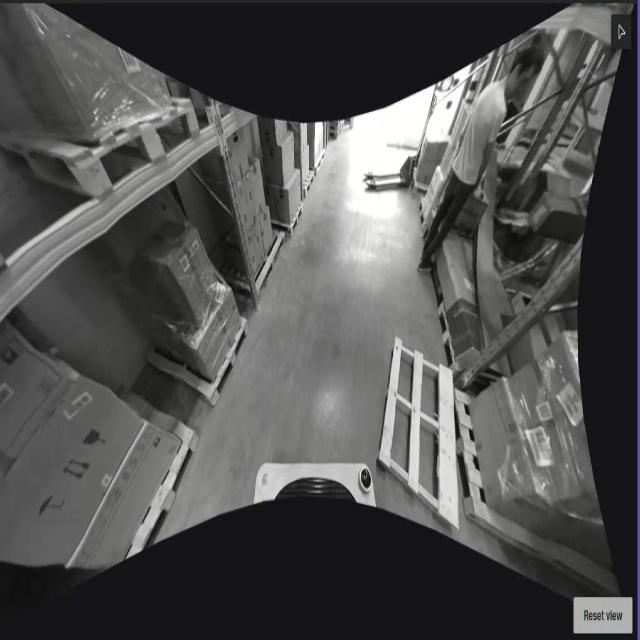Pallets-and-forklifts: (65, 95, 204, 210), (380, 336, 458, 529), (129, 399, 206, 541), (175, 315, 255, 416), (455, 426, 519, 548), (242, 229, 285, 304)
forlift: (356, 83, 447, 193)
